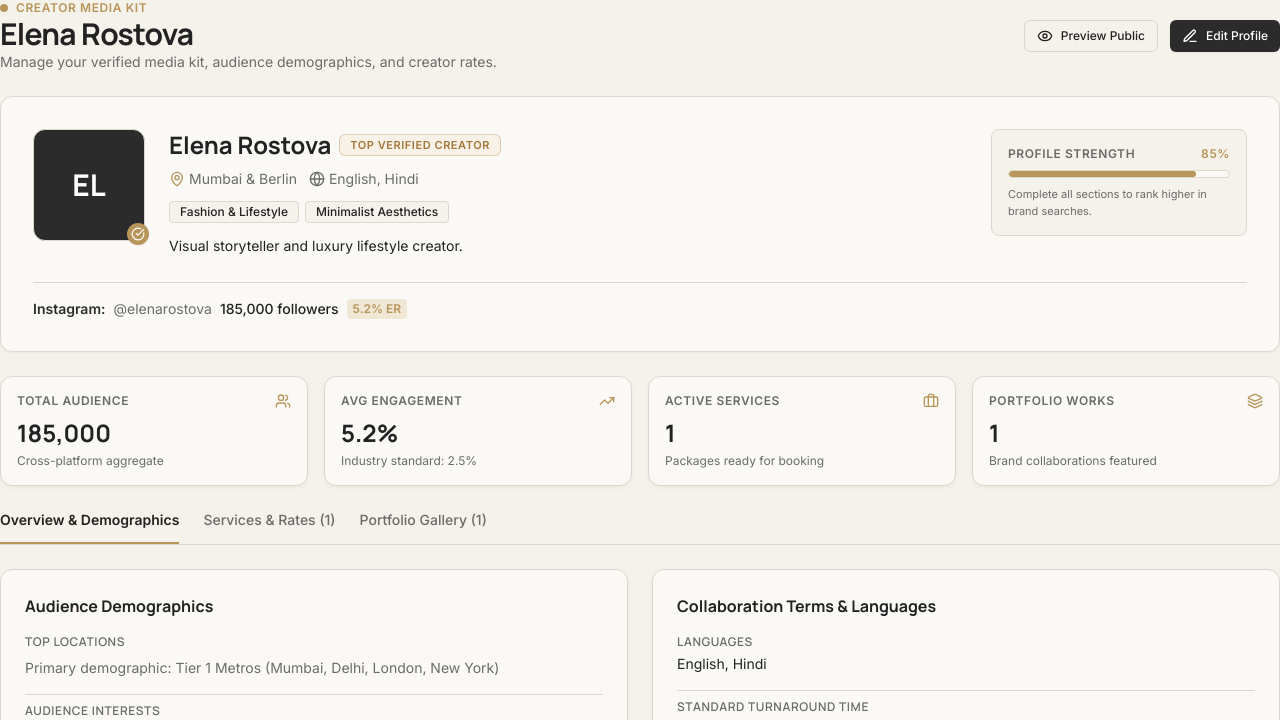
Test: Frontend Profiles UI & Flow Tests (Phase 3) › Influencer Profile Page › renders influencer media kit with metrics and completion percentage
The width and height of the screenshot is (1280, 720).
Expected: the heading "Elena Rostova" below "Creator Media Kit" is shown, [0, 13, 193, 54]
Expected: the text "Visual storyteller and luxury lifestyle creator." is shown, [169, 231, 501, 258]
// Check tab switches
Click the button "Services & Rates (1)".
click(270, 527)  # box [203, 510, 336, 544]
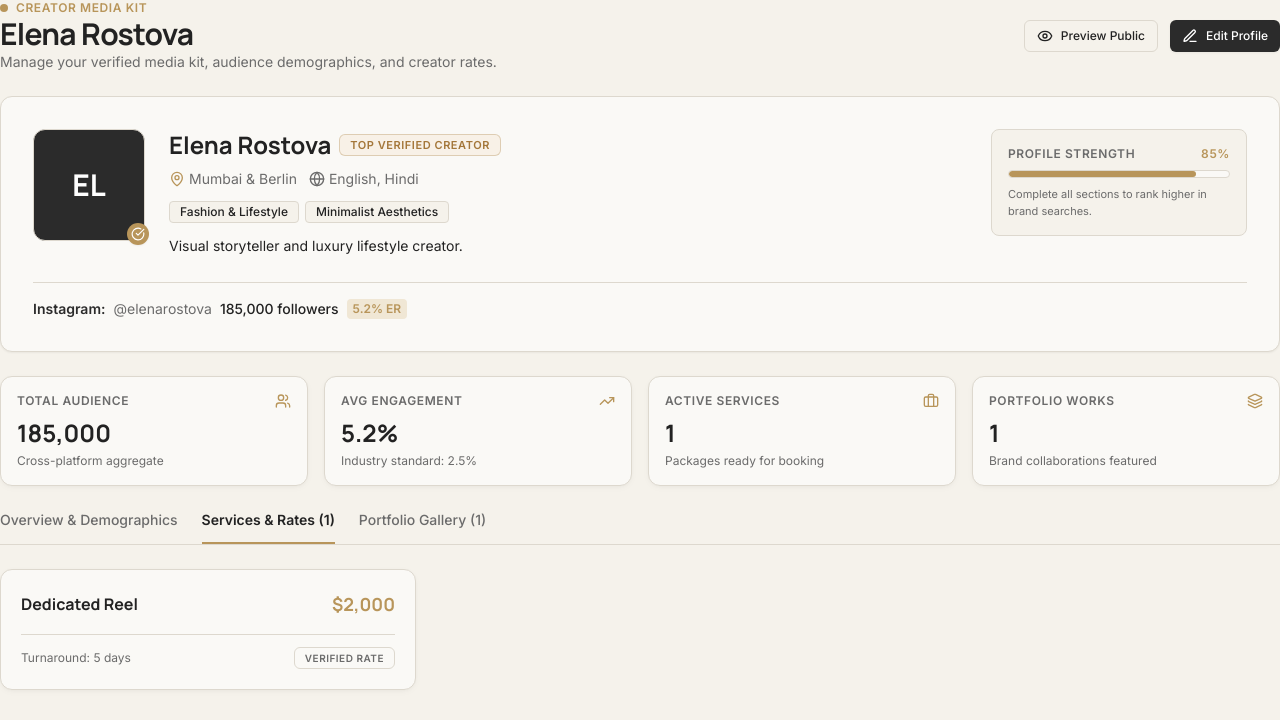
Expected: the heading "Dedicated Reel" is shown, [21, 592, 138, 616]
Expected: the text "$2,000" is shown, [332, 590, 395, 618]
